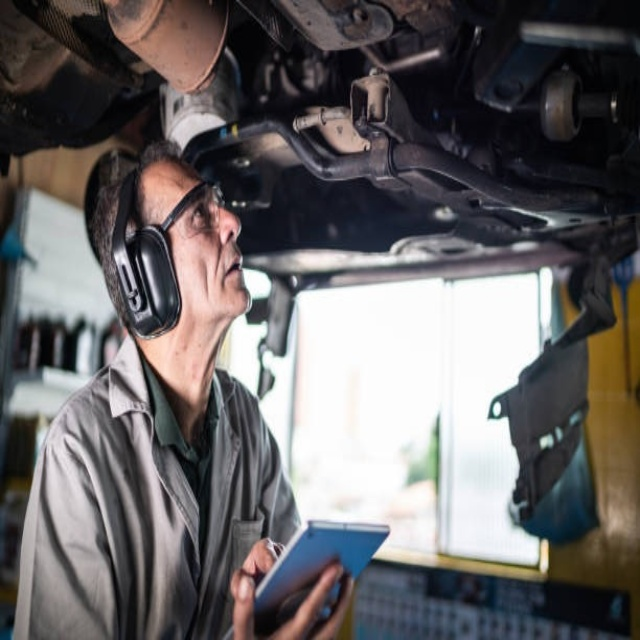Gafas: (164, 174, 231, 243)
Sin_guantes: (231, 551, 352, 640)
Sin_mascara: (210, 242, 252, 306)
